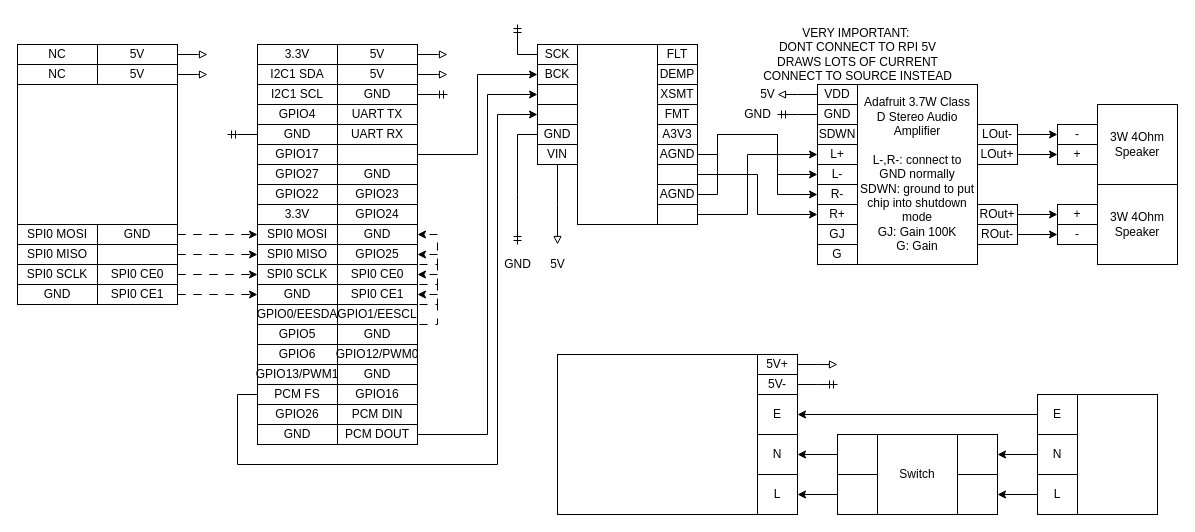
This 1195x532 diagram has some shape labels left out. The shapes that lost their labels are listed below. From the top down, each one's box as (x1, y1, x2, y2) in pixels, then its label:
(536, 84, 578, 104): DIN
(536, 104, 578, 124): LCK
(16, 84, 178, 224): Screen
(336, 144, 418, 164): PCM CLK
(576, 44, 658, 224): PCM5102A AUX Stereo Digital Audio DAC Named Pins controlled by solder jumpers
(656, 164, 698, 184): ROUT
(656, 204, 698, 224): LOUT
(96, 244, 178, 264): GPIO25 (IRQ)
(556, 354, 758, 514): Mean Well 5V Power Supply
(836, 434, 878, 474): I1
(956, 434, 998, 474): O1
(1076, 394, 1158, 514): IEC C14 Socket
(836, 474, 878, 514): I2
(956, 474, 998, 514): O2
